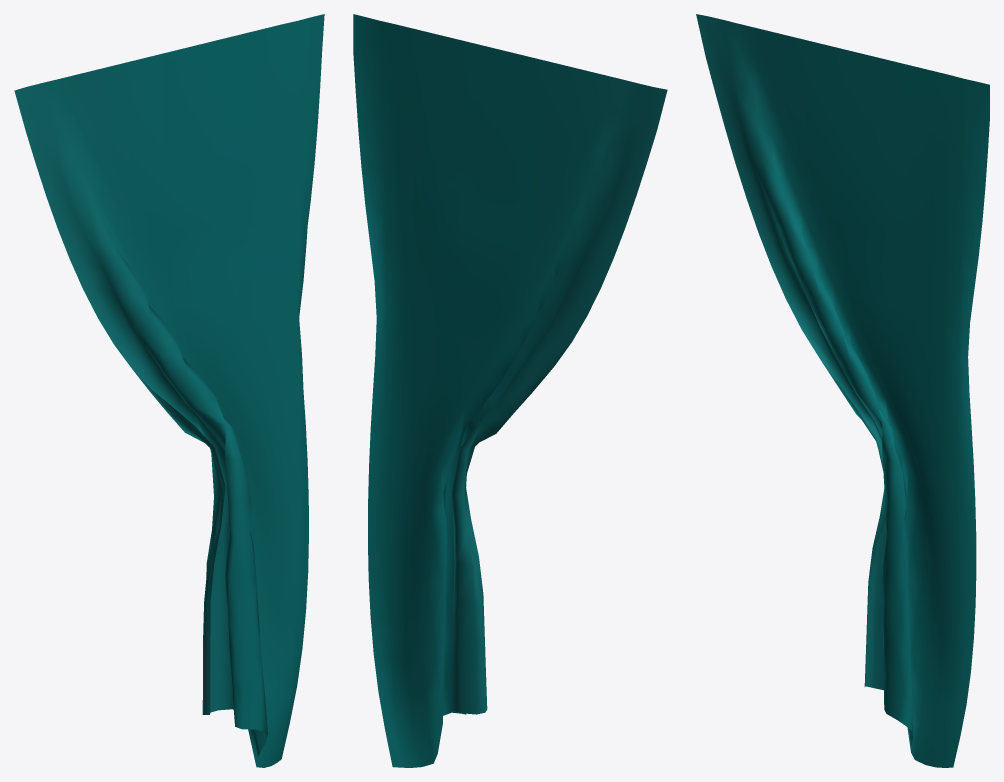
File: a8afab9a-4072-405f-be8f-c99a62001fc3.glb
3 renders of one model, left to right at view 1: azimuth 30°, elevation 25°; view 2: azimuth 150°, elevation 25°; view 3: azimuth 330°, elevation 25°, orthographic. The views are drawn at different scales.
Visible parts, largest first — view 1: CurtainRightTeal; view 2: CurtainRightTeal; view 3: CurtainRightTeal.
Part boxes in pixels (left/top/right/bottom): CurtainRightTeal: left=14, top=14, right=324, bottom=767; CurtainRightTeal: left=353, top=14, right=667, bottom=767; CurtainRightTeal: left=696, top=14, right=989, bottom=767.
Size of the model in its own units: 0.874 by 1.98 by 0.0844.
Materials: 1 (1 with a texture image).
